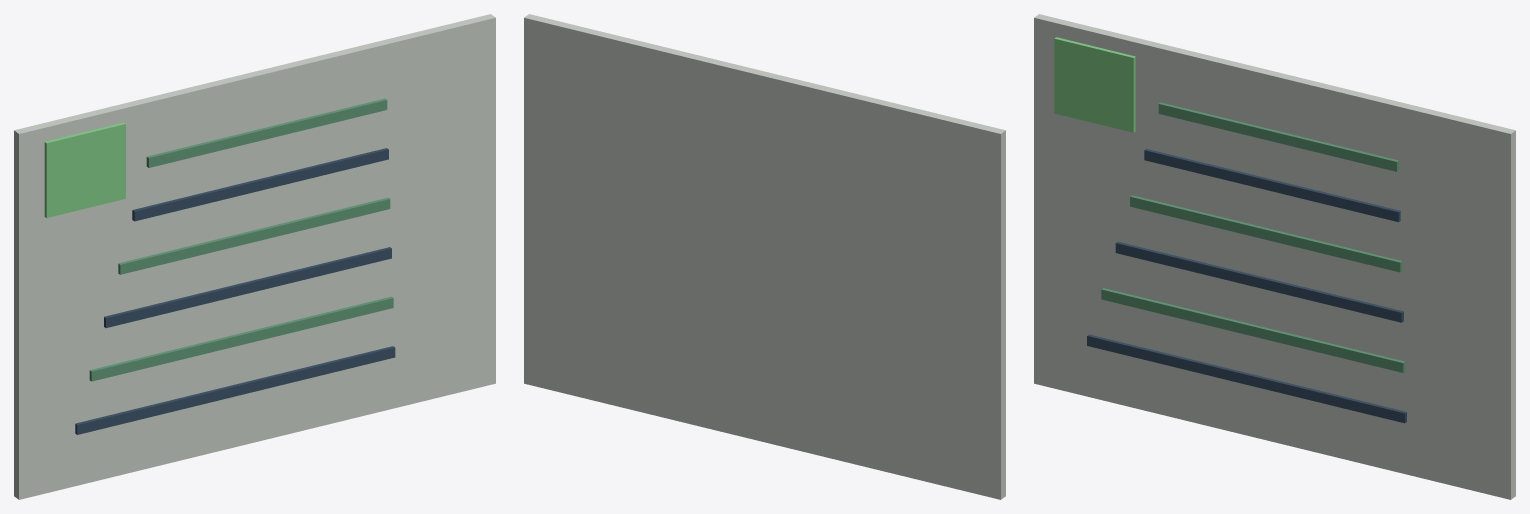
File: draft_paper.glb
3 renders of one model, left to right at view 1: azimuth 30°, elevation 25°; view 2: azimuth 150°, elevation 25°; view 3: azimuth 330°, elevation 25°, orthographic.
Parts seen in each view (by area): view 1: draft_paper; view 2: draft_paper; view 3: draft_paper.
Boxes of the visible parts, <box> form: draft_paper: <box>14,14,495,499</box>; draft_paper: <box>524,14,1005,499</box>; draft_paper: <box>1034,14,1515,499</box>.
Size of the model in its own units: 0.3 by 0.22 by 0.00944.
